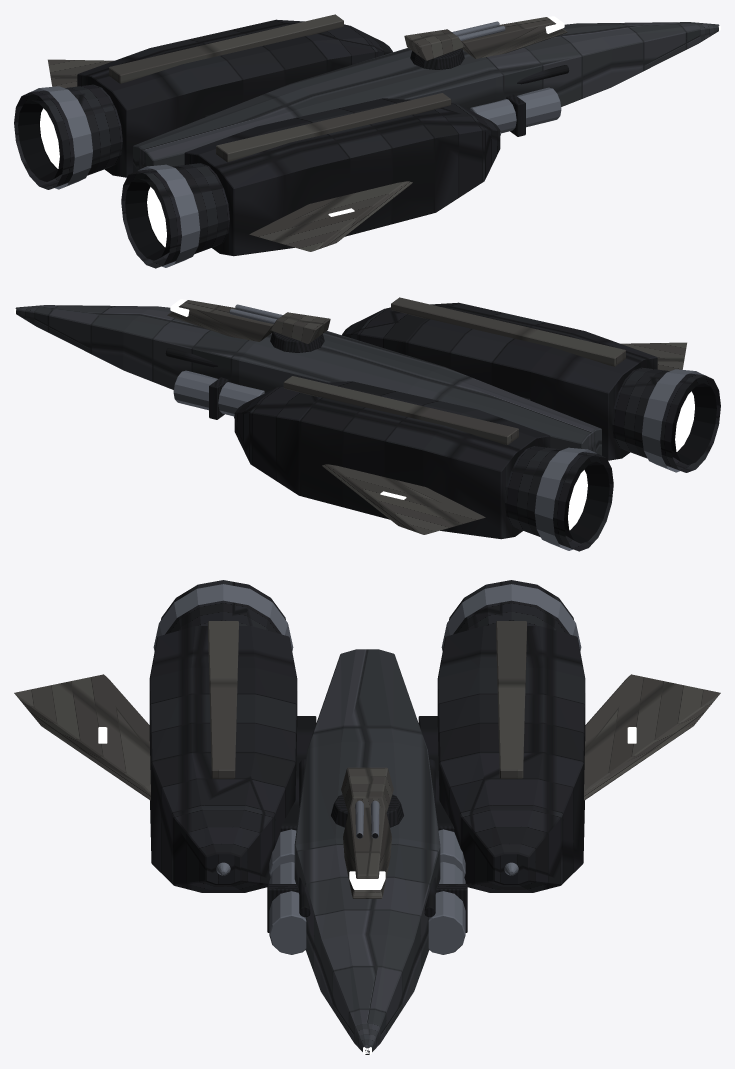
Rendered from corvette.glb.
The picture shows the model from 3 angles, top to bottom: view 1: azimuth 30°, elevation 25°; view 2: azimuth 150°, elevation 25°; view 3: azimuth 270°, elevation 25°; orthographic projection. The views are drawn at different scales.
Visible parts, largest first — view 1: corvette; view 2: corvette; view 3: corvette.
Part boxes in pixels (left/top/right/bottom): corvette: left=14, top=14, right=720, bottom=268; corvette: left=14, top=297, right=720, bottom=551; corvette: left=14, top=580, right=720, bottom=1054.
Size of the model in its own units: 20 by 3.32 by 14.53.
1 material, 1 textured.
